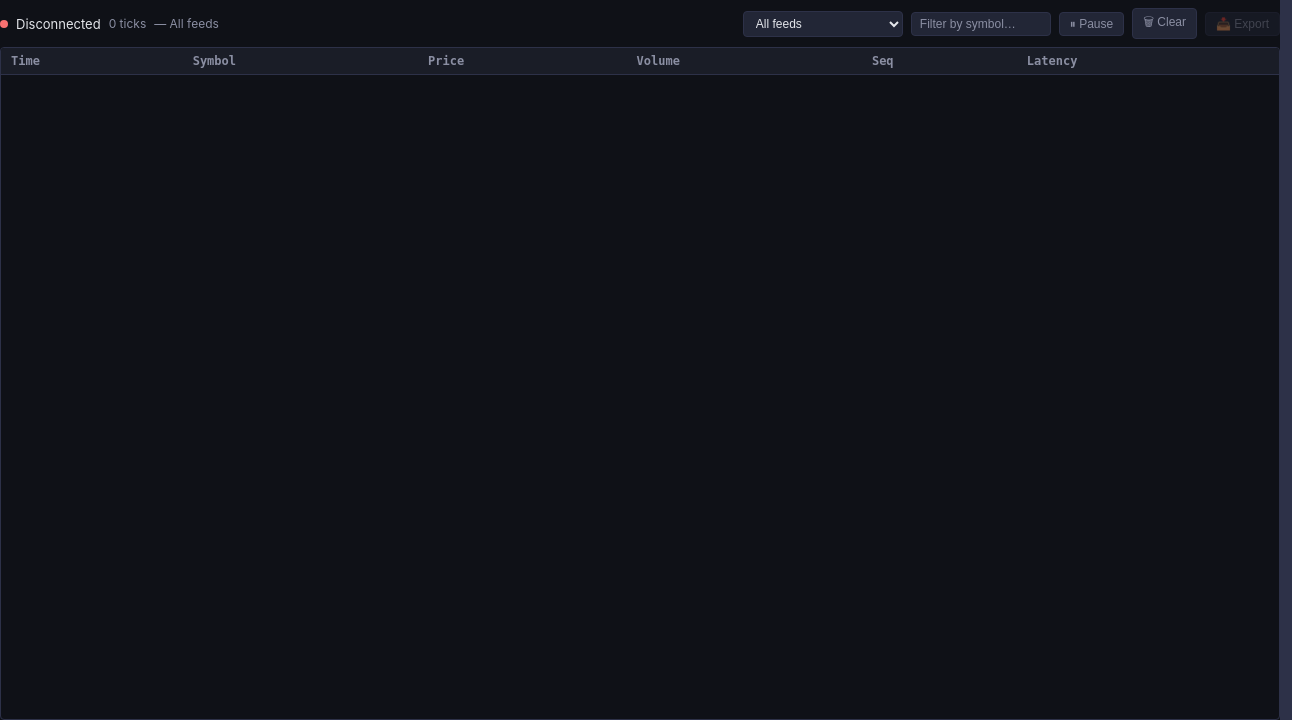
Test case: LiveTickFeed › toggles pause/resume button
Click the button "⏸ Pause" at {"x": 1092, "y": 24}, box [1059,12,1124,36]
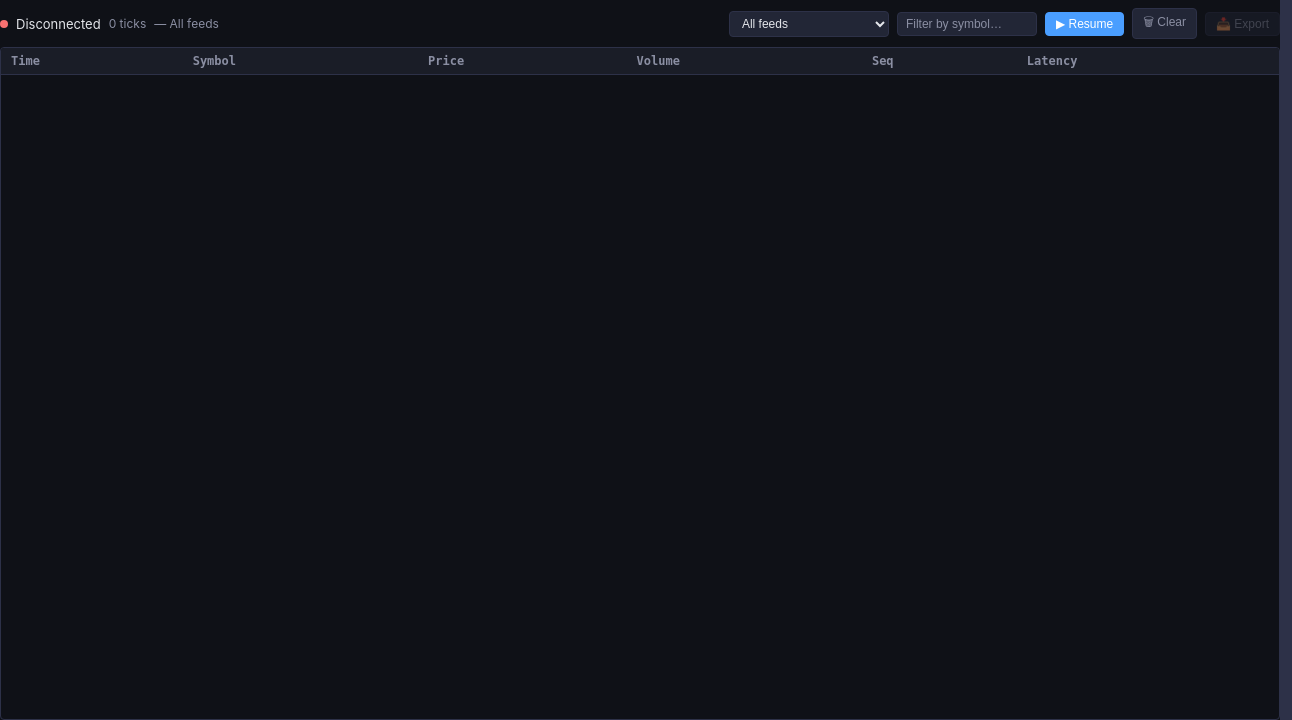
Expected: the button "▶ Resume" is shown
Click the button "▶ Resume" at {"x": 1085, "y": 24}, box [1045,12,1124,36]
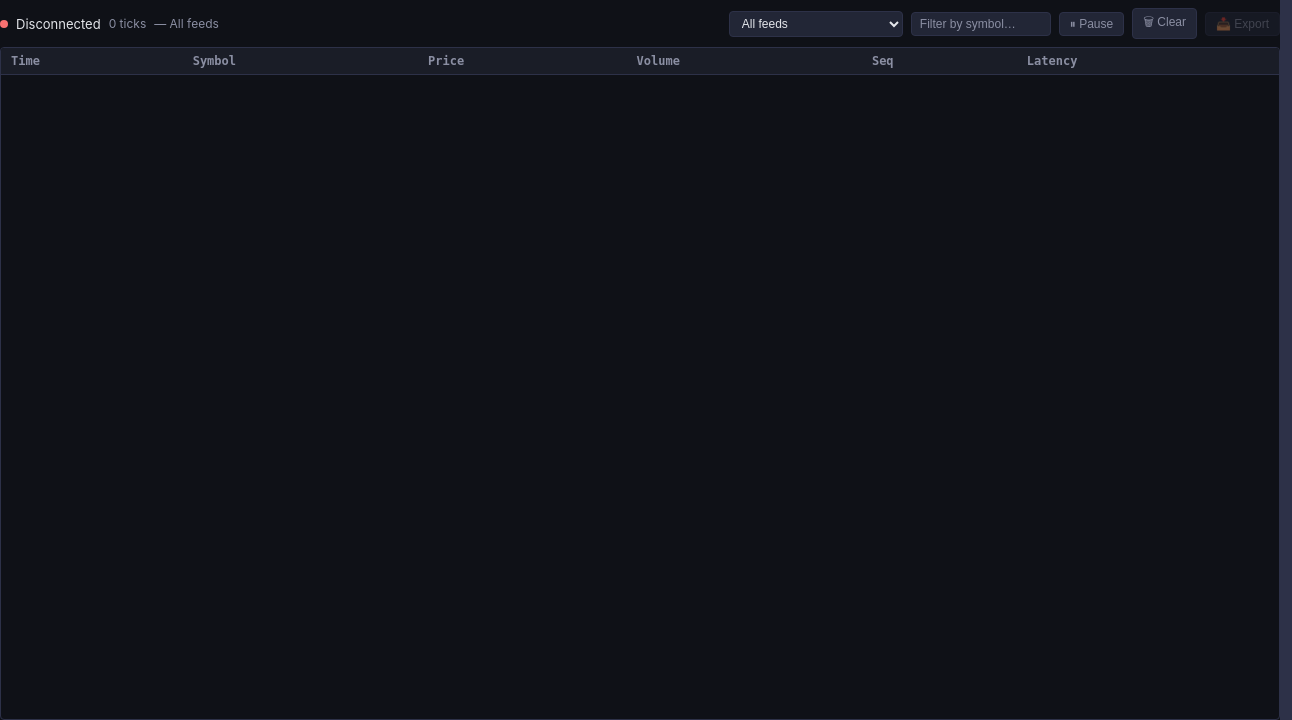
Expected: the button "⏸ Pause" is shown, [1059,12,1124,36]
